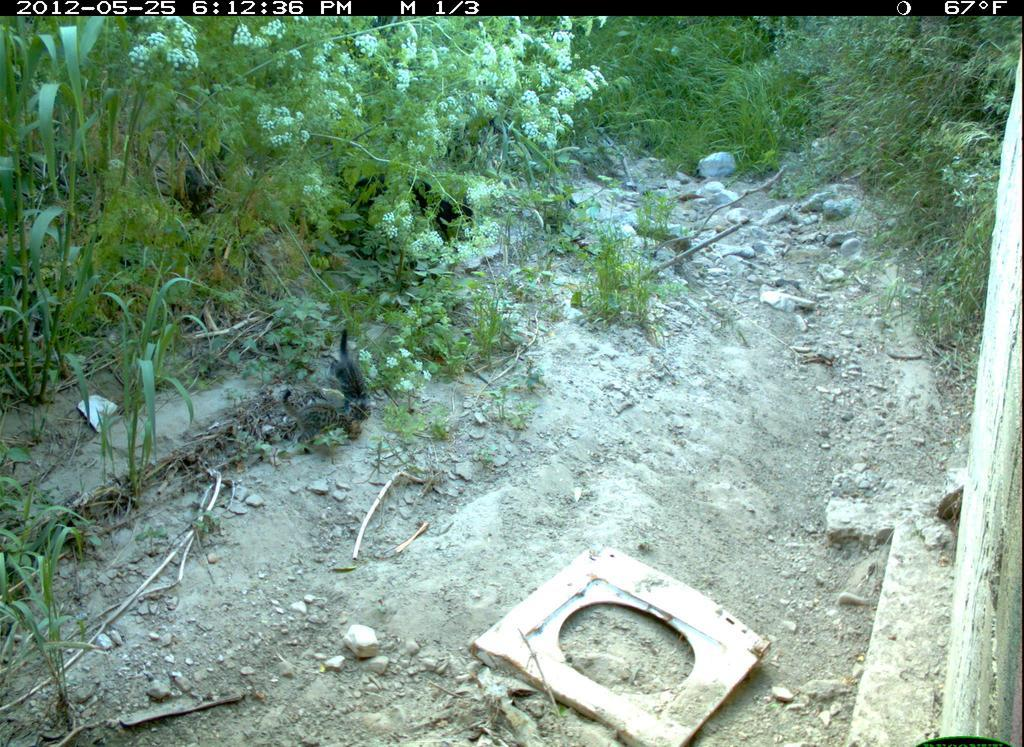cat: (263, 326, 400, 459)
